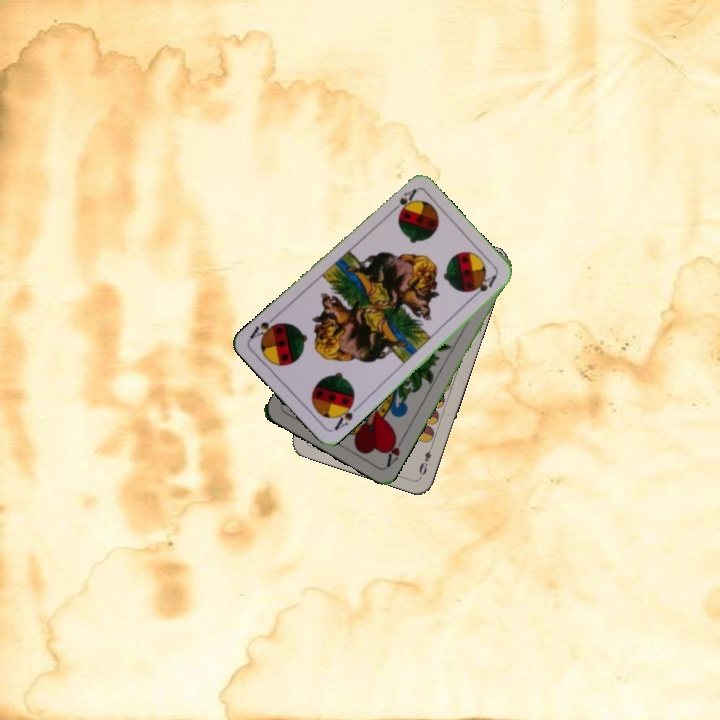E9: (415, 440, 436, 478)
HA: (382, 432, 407, 469)
SA: (330, 397, 362, 433), (386, 185, 419, 216)
